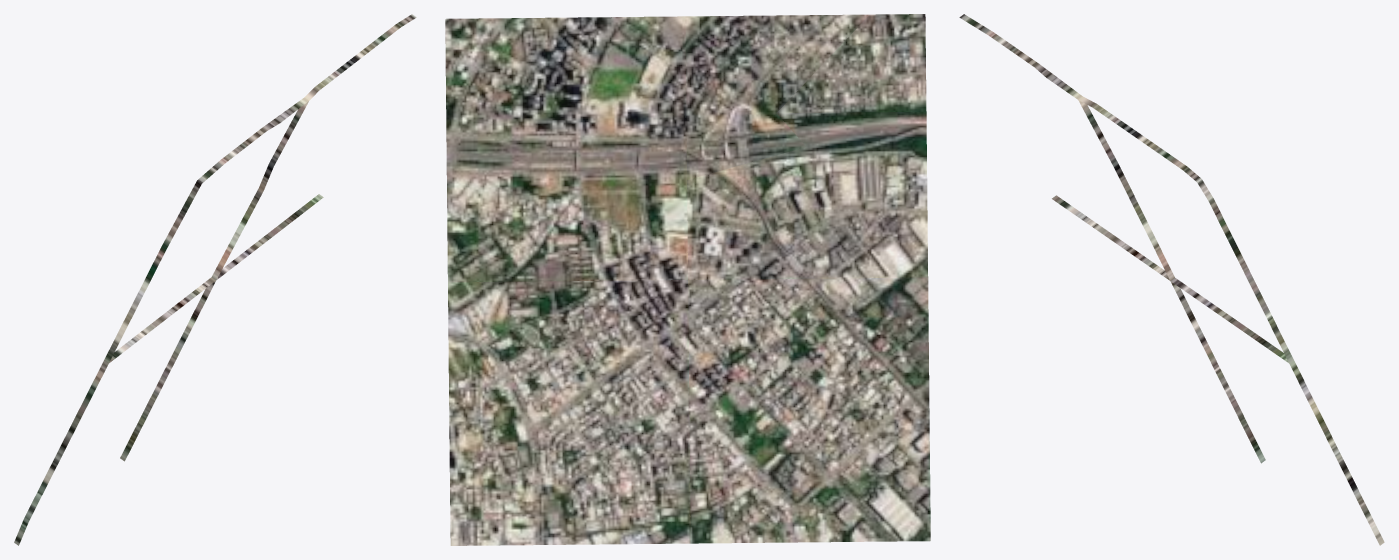
3 renders of one model, left to right at view 1: azimuth 30°, elevation 25°; view 2: azimuth 150°, elevation 25°; view 3: azimuth 270°, elevation 25°, orthographic. The views are drawn at different scales.
Bounding box in the file's own units: 2446 × 2223 × 2067.
Materials: 1 (1 with a texture image).
